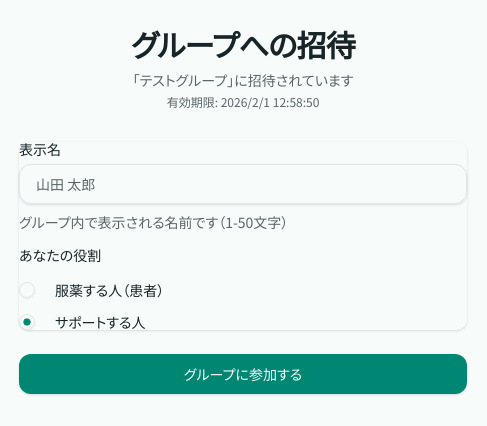
Test case: InviteForm › 表示名が空の場合バリデーションエラー
The width and height of the screenshot is (487, 426).
Click the button "グループに参加する" at {"x": 243, "y": 374}, box top-left (19, 354), bottom-right (467, 394)
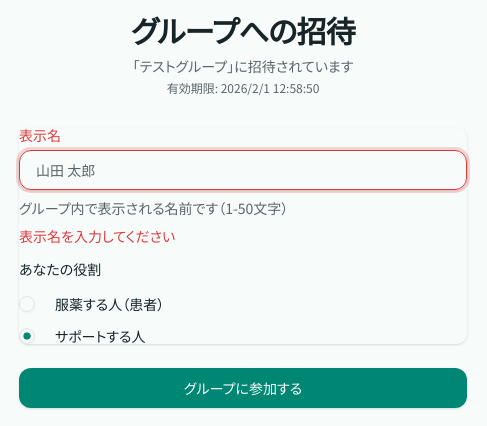
Result: the text "表示名を入力してください" is shown at top-left (19, 226), bottom-right (175, 246)
